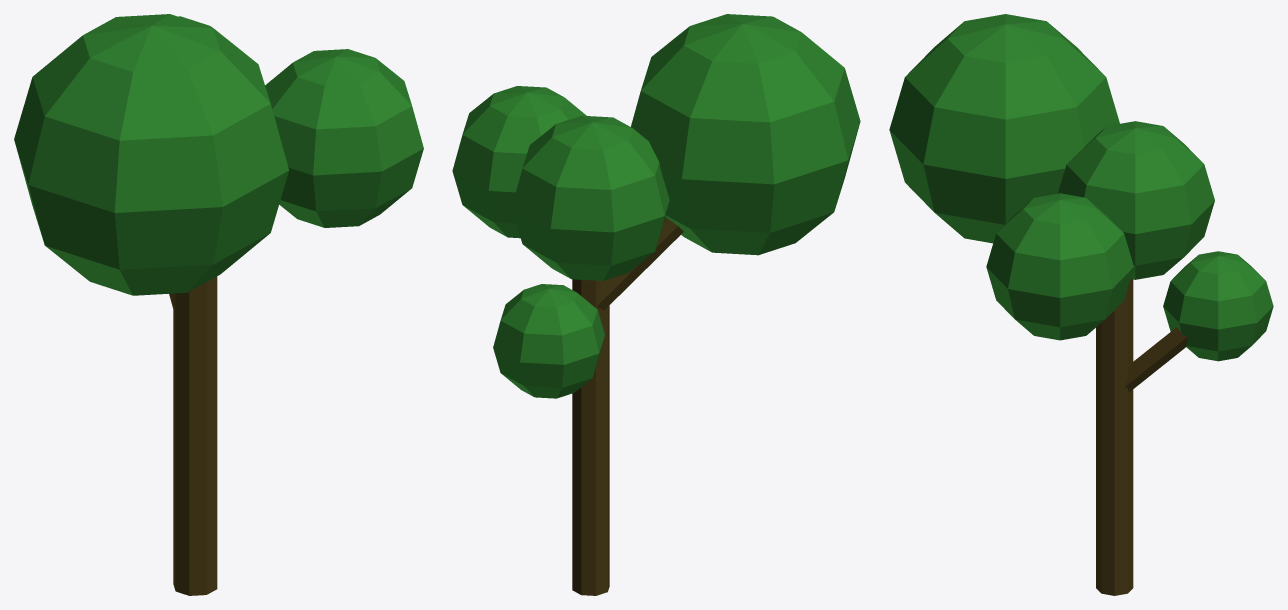
File: tree7.fbx
3 renders of one model, left to right at view 1: azimuth 30°, elevation 25°; view 2: azimuth 150°, elevation 25°; view 3: azimuth 270°, elevation 25°, orthographic. The views are drawn at different scales.
Parts seen in each view (by area): view 1: tree5, tronc_3_4_15; view 2: tree5, tronc_3_4_15; view 3: tree5, tronc_3_4_15.
Boxes of the visible parts, x1,y1,x2,y2 form: tree5: (14, 14, 423, 308); tronc_3_4_15: (173, 276, 217, 595); tree5: (452, 14, 860, 398); tronc_3_4_15: (572, 279, 609, 595); tree5: (889, 14, 1273, 391); tronc_3_4_15: (1096, 279, 1133, 595).
Size of the model in its own units: 16.77 by 24.3 by 16.28.
